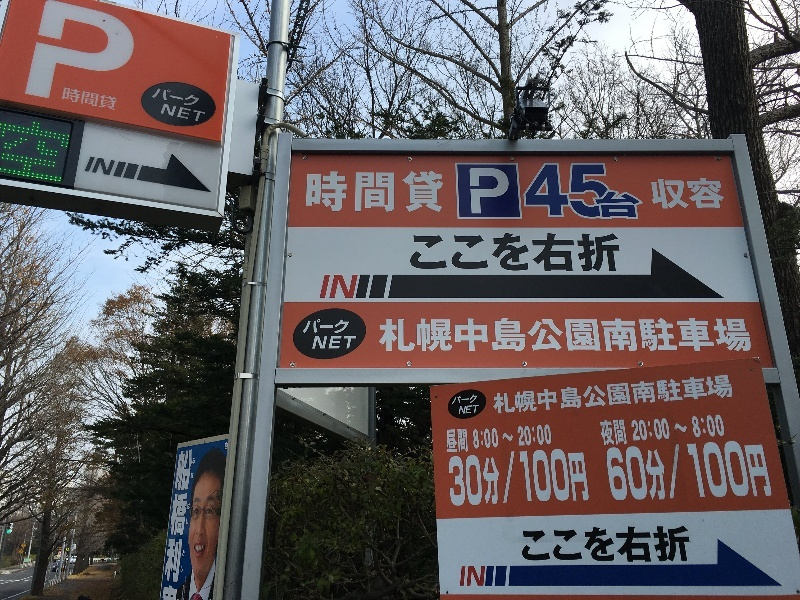text: (177, 449, 193, 583), (163, 449, 176, 583), (49, 1, 64, 113), (65, 1, 80, 113), (81, 1, 96, 113), (97, 1, 112, 113), (113, 1, 128, 113), (1, 115, 16, 183), (17, 115, 32, 183), (33, 115, 48, 183), (49, 115, 64, 183), (129, 1, 138, 113), (609, 440, 624, 501), (625, 440, 640, 501), (641, 440, 656, 501), (657, 440, 672, 501), (673, 440, 688, 501), (689, 440, 704, 501), (705, 440, 720, 501), (721, 440, 736, 501), (737, 440, 752, 501), (753, 440, 768, 501), (449, 447, 464, 507), (465, 447, 480, 507), (481, 447, 496, 507), (497, 447, 512, 507), (513, 447, 528, 507), (529, 447, 544, 507), (545, 447, 560, 507), (561, 447, 576, 507), (529, 164, 544, 219), (545, 164, 560, 219), (561, 164, 576, 219), (577, 164, 592, 219), (593, 164, 608, 219), (609, 164, 624, 219), (625, 164, 640, 219), (577, 447, 589, 507), (481, 168, 496, 214), (321, 170, 336, 214), (337, 170, 352, 214), (353, 170, 368, 214), (369, 170, 384, 214), (385, 170, 400, 214), (401, 170, 416, 214), (417, 170, 432, 214), (417, 233, 432, 273), (433, 233, 448, 273), (449, 233, 464, 273), (465, 233, 480, 273), (481, 233, 496, 273), (497, 233, 512, 273), (513, 233, 528, 273), (529, 233, 544, 273), (545, 233, 560, 273), (561, 233, 576, 273), (577, 233, 592, 273), (593, 233, 608, 273), (497, 375, 512, 415), (513, 375, 528, 415), (529, 375, 544, 415), (545, 375, 560, 415), (561, 375, 576, 415), (577, 375, 592, 415), (593, 375, 608, 415), (609, 375, 624, 415), (625, 375, 640, 415), (641, 375, 656, 415), (657, 375, 672, 415), (673, 375, 688, 415), (689, 375, 704, 415), (705, 375, 720, 415), (497, 168, 510, 214), (529, 526, 544, 563), (545, 526, 560, 563), (561, 526, 576, 563), (577, 526, 592, 563), (593, 526, 608, 563), (609, 526, 624, 563), (625, 526, 640, 563), (641, 526, 656, 563), (657, 526, 672, 563), (673, 526, 688, 563), (385, 318, 400, 354), (401, 318, 416, 354), (417, 318, 432, 354), (433, 318, 448, 354), (449, 318, 464, 354), (465, 318, 480, 354), (481, 318, 496, 354), (497, 318, 512, 354), (513, 318, 528, 354), (529, 318, 544, 354), (545, 318, 560, 354), (561, 318, 576, 354), (577, 318, 592, 354), (593, 318, 608, 354), (609, 318, 624, 354), (625, 318, 640, 354), (641, 318, 656, 354), (657, 318, 672, 354), (673, 318, 688, 354), (689, 318, 704, 354), (705, 318, 720, 354), (721, 318, 736, 354), (737, 318, 752, 354), (308, 170, 320, 214), (609, 233, 621, 273), (657, 179, 672, 211), (673, 179, 688, 211), (689, 179, 704, 211), (705, 179, 720, 211), (721, 375, 733, 415), (470, 168, 480, 214), (433, 170, 443, 214), (65, 115, 71, 183), (609, 420, 624, 447), (481, 424, 496, 450), (497, 424, 512, 450), (513, 424, 528, 450), (529, 424, 544, 450), (641, 415, 656, 441), (657, 415, 672, 441), (673, 415, 688, 441), (689, 415, 704, 441), (705, 415, 720, 441), (337, 275, 352, 299), (449, 429, 464, 453), (65, 88, 80, 111), (81, 88, 96, 111), (97, 88, 112, 111), (161, 87, 176, 108), (177, 87, 192, 108), (193, 458, 208, 479), (177, 104, 192, 123), (97, 157, 112, 176), (465, 567, 480, 586), (325, 275, 336, 299), (193, 104, 206, 123), (631, 415, 640, 441), (164, 104, 176, 123), (321, 319, 336, 334), (46, 1, 48, 113), (524, 164, 528, 219), (600, 420, 608, 447), (183, 550, 192, 573), (321, 336, 336, 349), (337, 336, 352, 349), (307, 319, 320, 334), (184, 576, 192, 600), (650, 179, 656, 211), (769, 440, 772, 501), (473, 424, 480, 450), (545, 424, 552, 450), (337, 319, 349, 334), (165, 585, 176, 600), (721, 179, 726, 211), (524, 526, 528, 563), (689, 526, 693, 563), (380, 318, 384, 354), (465, 405, 480, 414), (465, 394, 477, 405), (193, 87, 199, 108), (606, 440, 608, 501), (413, 233, 416, 273), (353, 275, 358, 299), (113, 88, 118, 111), (454, 394, 464, 405), (721, 415, 725, 441), (91, 157, 96, 176), (225, 443, 240, 449), (188, 503, 192, 525), (494, 375, 496, 415), (481, 567, 485, 586), (465, 429, 468, 453), (315, 336, 320, 349), (157, 87, 160, 108), (641, 164, 642, 219), (625, 420, 627, 447), (353, 336, 357, 349), (113, 157, 115, 176), (462, 567, 464, 586), (460, 405, 464, 414), (447, 429, 448, 453)
